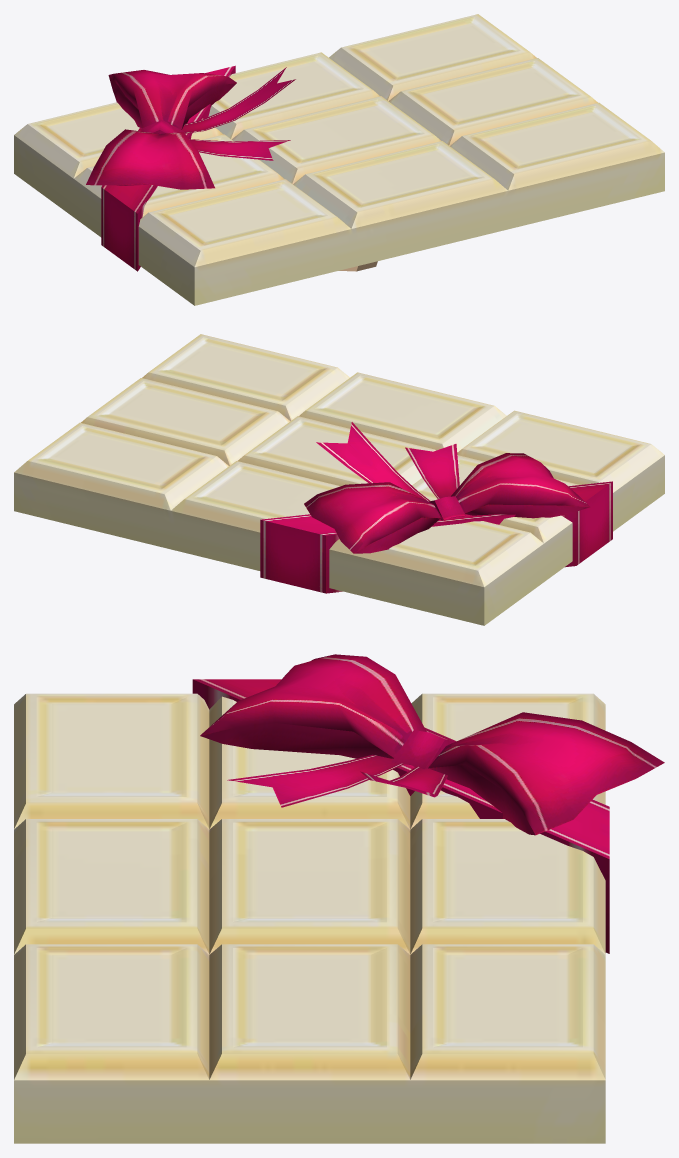
The model's file is shield0080.fbx.
3 views of the same model, one above another, from view 1: azimuth 30°, elevation 25°; view 2: azimuth 150°, elevation 25°; view 3: azimuth 270°, elevation 25° (orthographic). The views are drawn at different scales.
Visible parts, largest first — view 1: shield080; view 2: shield080; view 3: shield080.
Boxes of the visible parts, left/top/right/bottom form: shield080: left=14, top=14, right=664, bottom=305; shield080: left=14, top=334, right=664, bottom=625; shield080: left=14, top=654, right=664, bottom=1143.
Size of the model in its own units: 0.4931 by 0.1783 by 0.3481.
